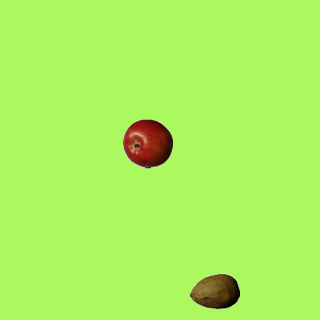Apple Braeburn: (122, 118, 172, 168)
Papaya: (189, 266, 239, 316)
